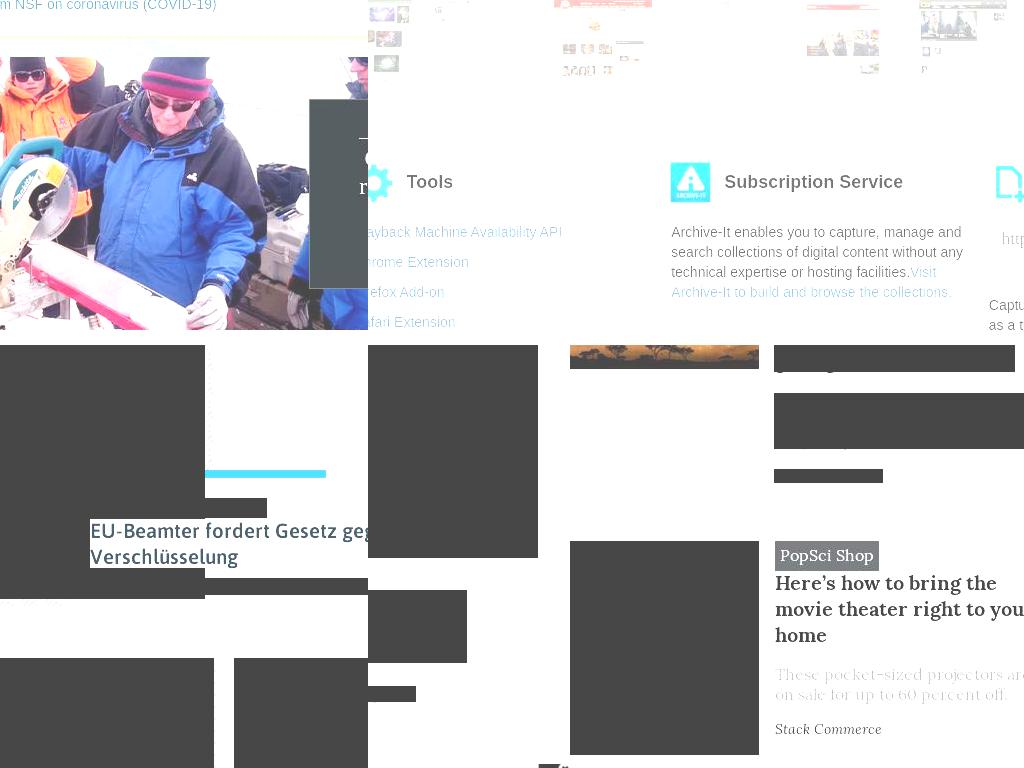button: (570, 541, 759, 755), (368, 345, 538, 558), (570, 345, 759, 501), (990, 258, 1024, 288)
heading: (90, 519, 368, 568)
image: (0, 345, 205, 599), (368, 345, 538, 558), (570, 541, 759, 667), (0, 658, 214, 768), (234, 658, 368, 768), (376, 0, 475, 81), (496, 0, 595, 81), (616, 0, 715, 81), (736, 0, 835, 81), (856, 0, 955, 81), (976, 0, 1024, 81), (666, 159, 715, 207), (983, 159, 1024, 207), (368, 159, 397, 207)
link: (774, 574, 1024, 646), (774, 393, 1024, 449), (671, 264, 953, 300), (774, 667, 1024, 703), (368, 590, 467, 663), (774, 345, 1015, 372), (368, 224, 562, 240), (0, 0, 217, 12), (368, 254, 469, 270), (90, 578, 181, 595), (368, 314, 456, 330), (794, 469, 883, 483), (368, 284, 445, 300), (304, 578, 368, 595)
text: (671, 224, 964, 280), (724, 171, 904, 192), (90, 498, 267, 518), (774, 541, 879, 571), (774, 723, 882, 737), (219, 578, 295, 595), (406, 171, 453, 192), (181, 578, 219, 595), (774, 469, 795, 483), (295, 578, 304, 595)
